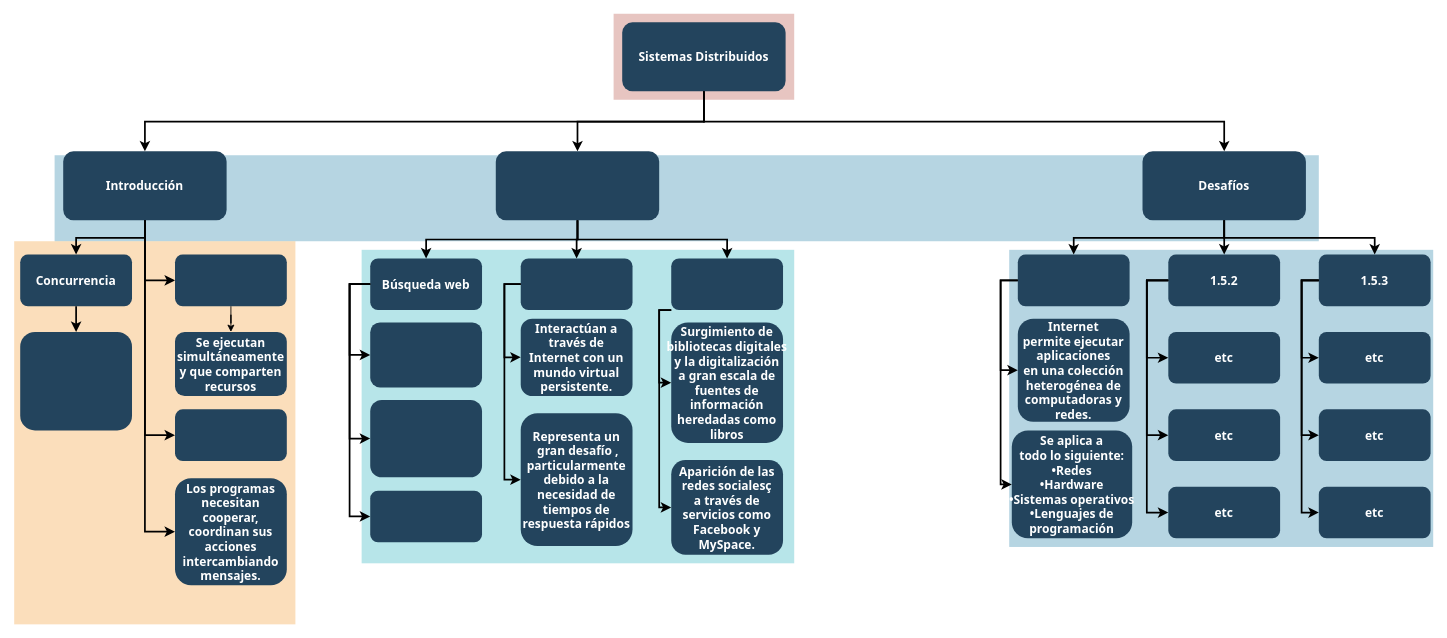
The diagram is 1447 pixels wide and 638 high, and some of its shapes have lost their labels. Each missing label, with the box of its shape:
Coordinación de programas: (175, 254, 286, 306)
Data Collection: (370, 490, 482, 542)
Ejemplos de Sistemas Distribuidos: (495, 151, 659, 220)
En una red de computadoras, la ejecución simultánea de programas es la norma.: (20, 332, 132, 430)
Heterogeneidad: (1017, 254, 1129, 306)
Indexar todo el contenido de la World Wide Web: (370, 322, 482, 387)
Juegos masivos multijugador en línea: (520, 258, 632, 310)
La sociedad de la información: (671, 258, 783, 310)
Reloj global: (175, 409, 286, 461)
Tarea muy compleja, se estiman más de 63 mil millones de páginas: (370, 399, 482, 477)
